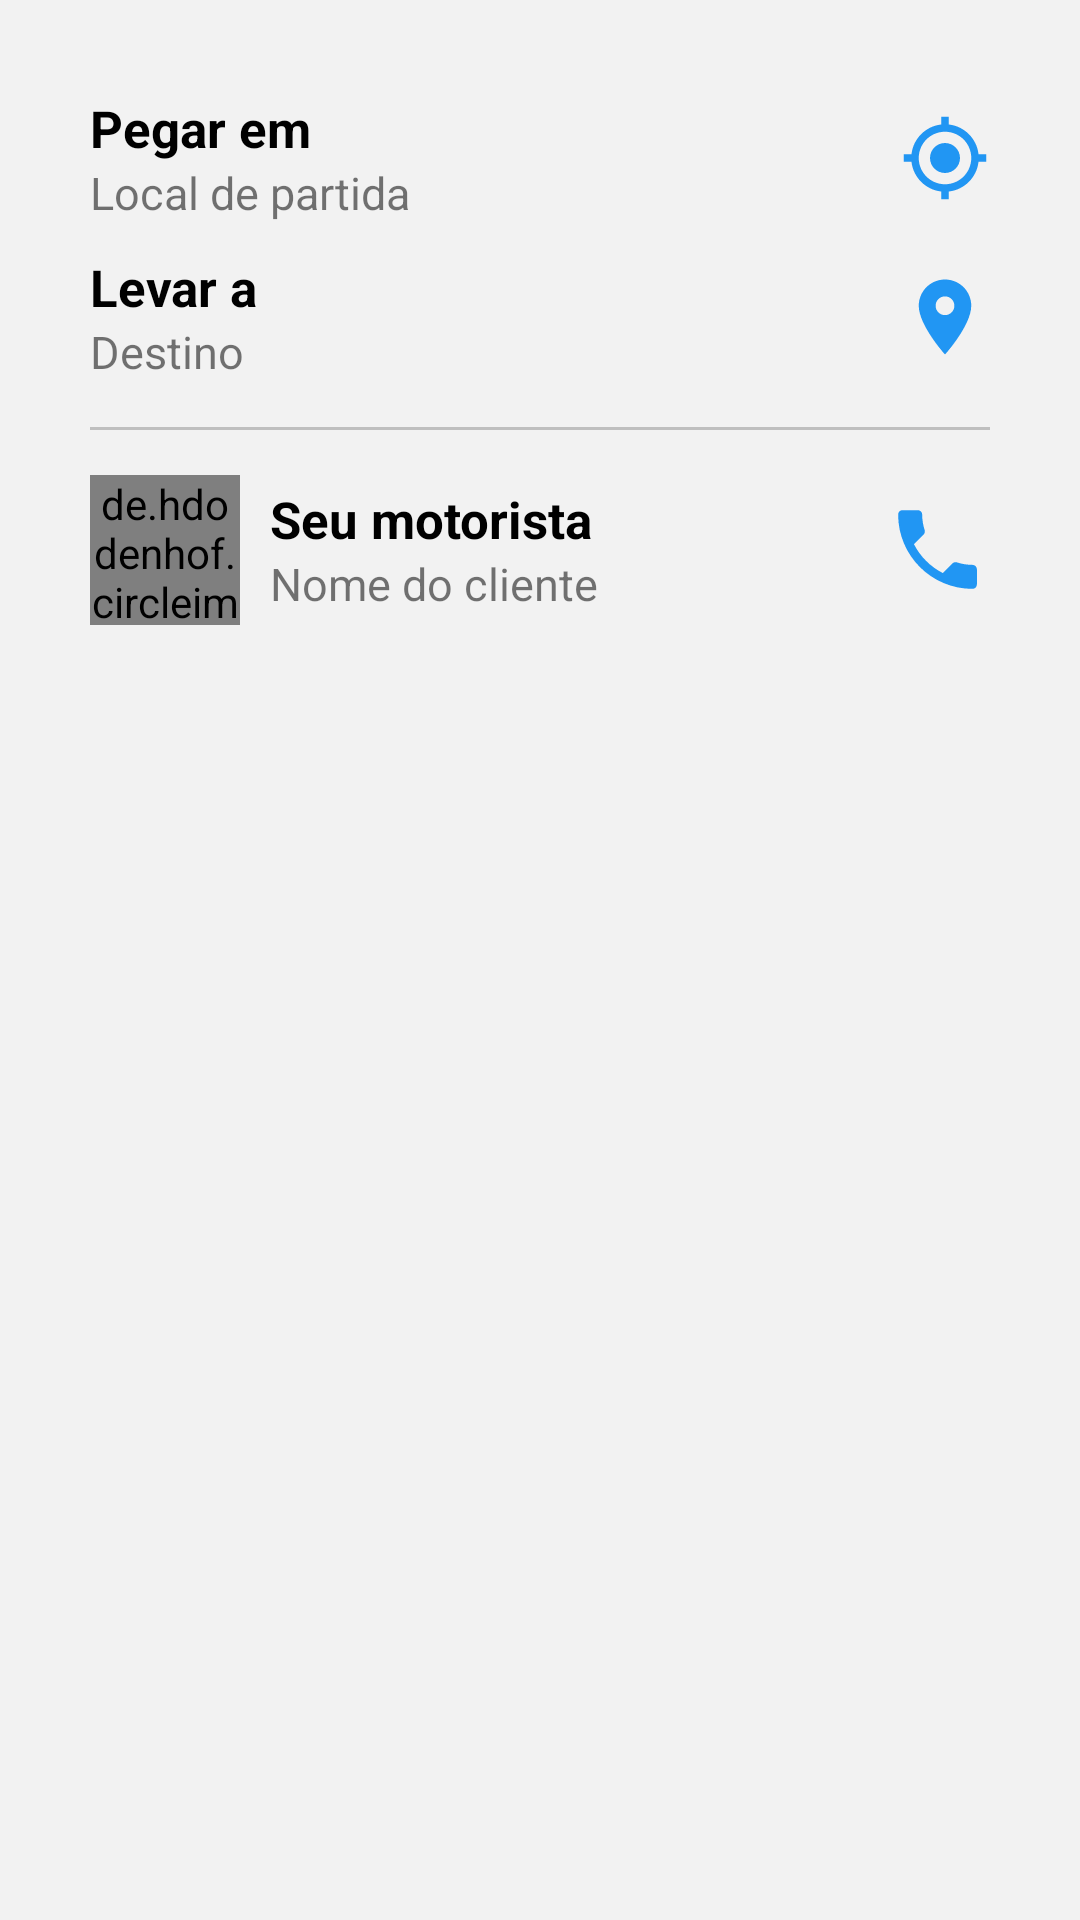

Where icons sit on this 1080w x 1920h app screen, as box(x1, y1, x2, y2):
location: box(903, 116, 987, 200), box(918, 279, 972, 354)
phone: box(898, 510, 977, 589)
